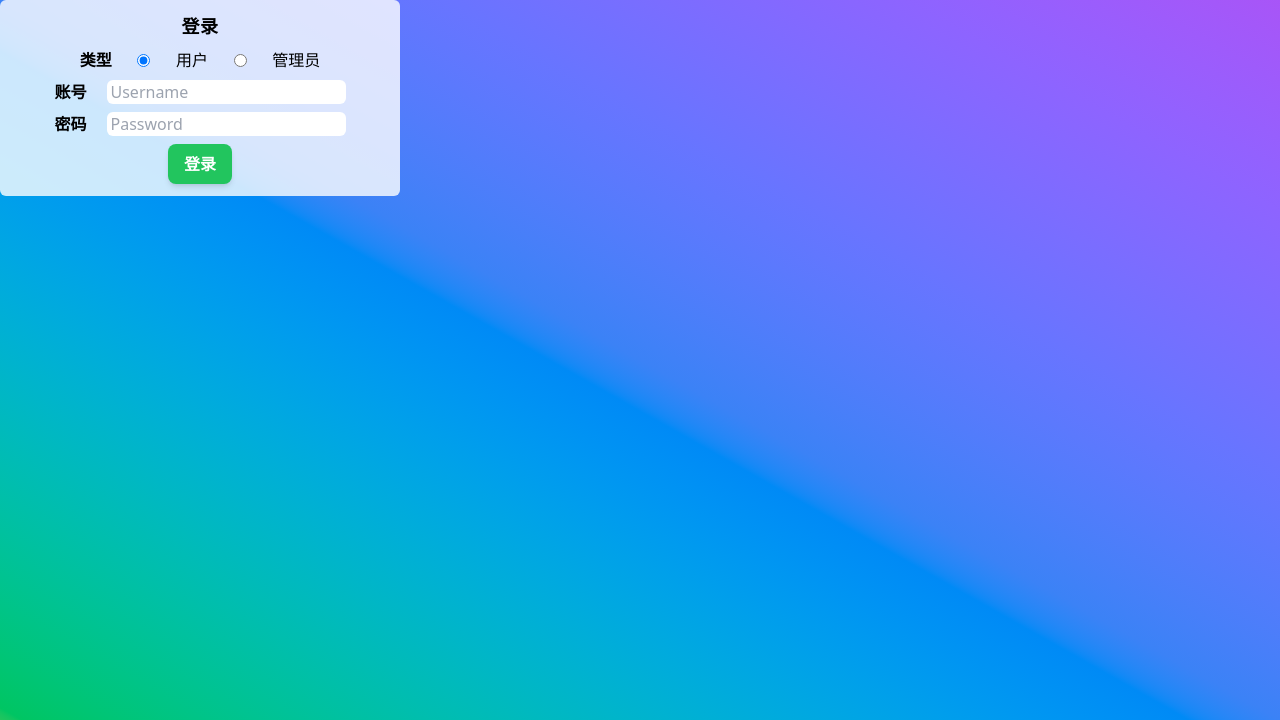
Test: Check interface of type radios
This screenshot has width=1280, height=720.
Click the radio button with test id "admin" at x=240, y=60, box [234,54,247,66]
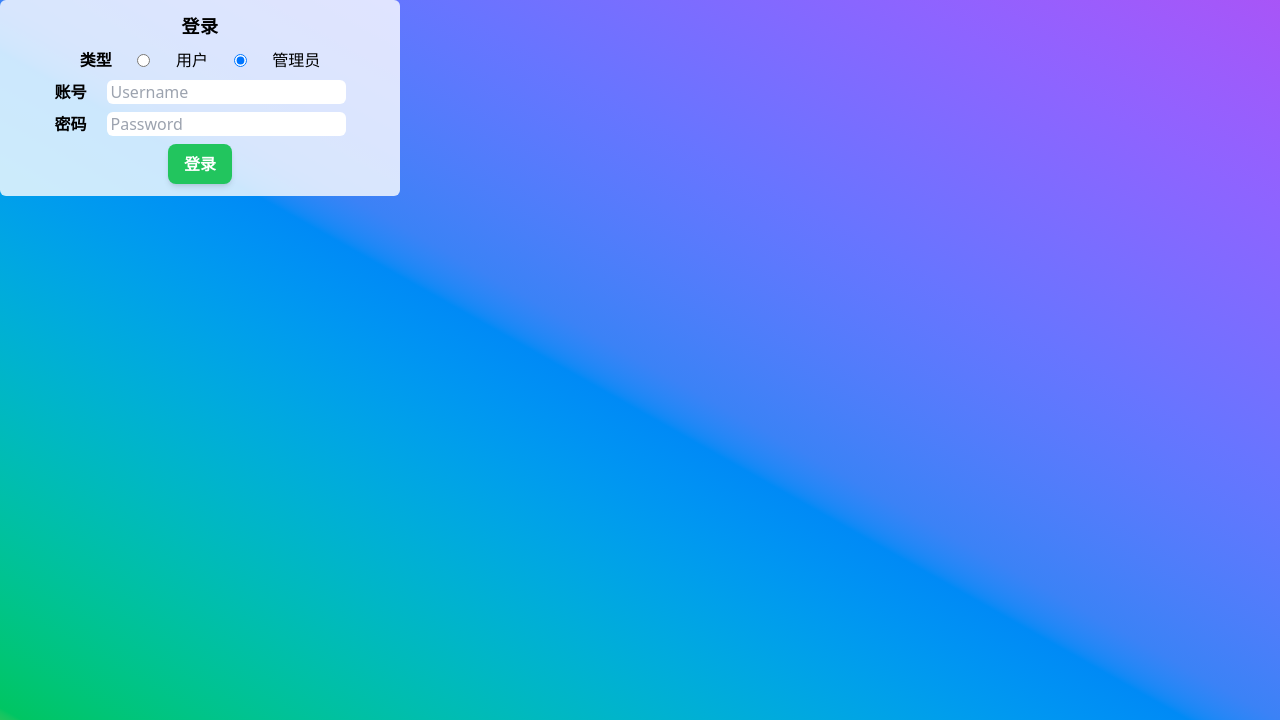
Expected: the radio button with test id "admin" is checked, [234,54,247,66]
Expected: the radio button with test id "member" is not checked, [137,54,150,66]
